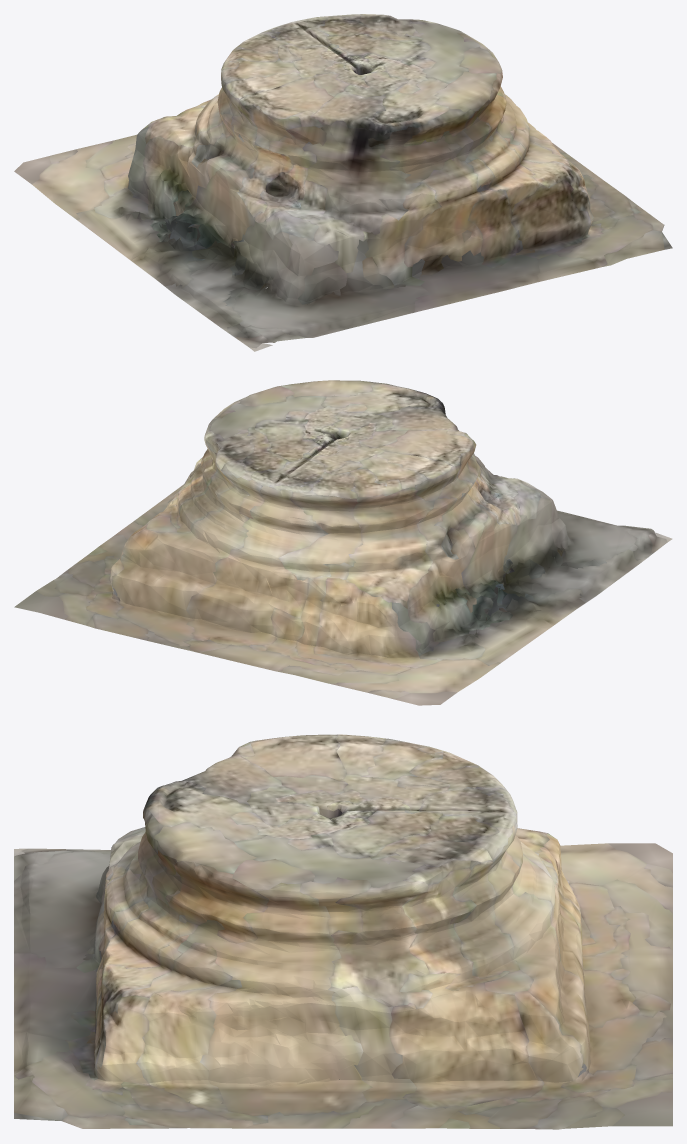
Rendered from roman-column-base.glb.
3 views of the same model, one above another, from view 1: azimuth 30°, elevation 25°; view 2: azimuth 150°, elevation 25°; view 3: azimuth 270°, elevation 25° (orthographic). The views are drawn at different scales.
Parts seen in each view (by area): view 1: Object_2; view 2: Object_2; view 3: Object_2.
Part boxes in pixels (x1,y1,x2,y2): Object_2: (14,14,672,351); Object_2: (14,380,672,705); Object_2: (14,734,672,1129).
Size of the model in its own units: 1.86 by 0.5809 by 1.84.
1 material, 1 textured.
